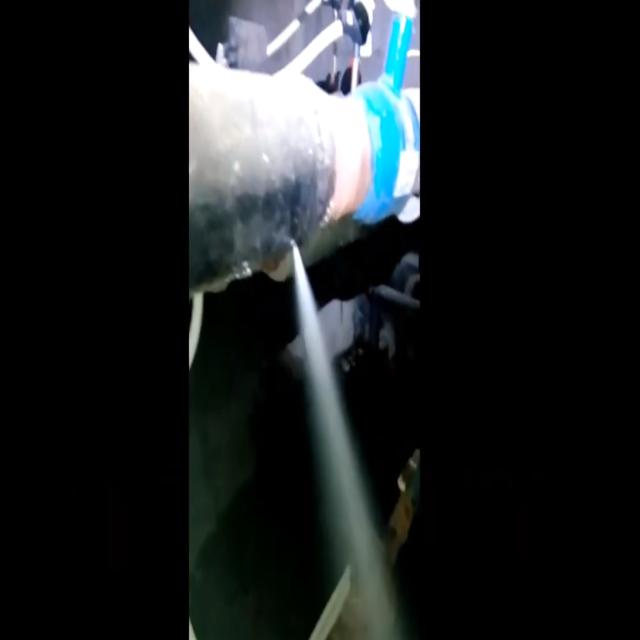leak: (292, 240, 413, 640)
